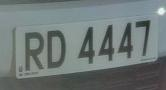4: (75, 20, 99, 72), (115, 17, 137, 66), (97, 19, 118, 68)
7: (136, 16, 156, 63)
D: (44, 26, 69, 73)
R: (20, 27, 46, 74)
